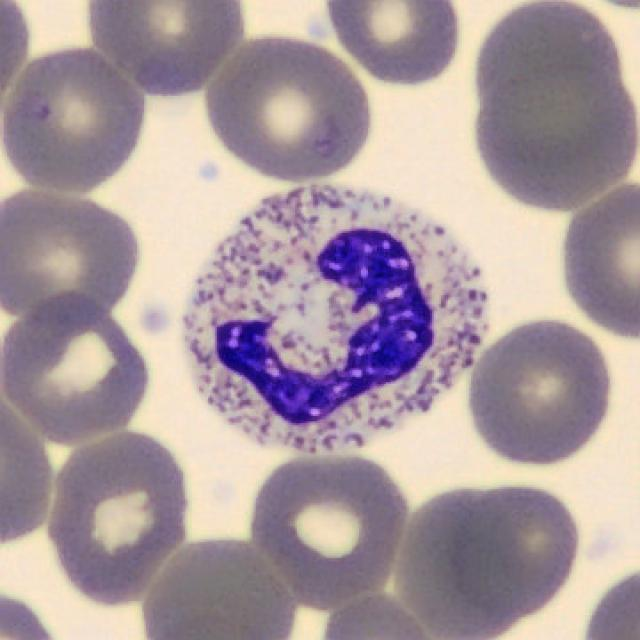Neutrofilo segmentado: (181, 185, 489, 455)
